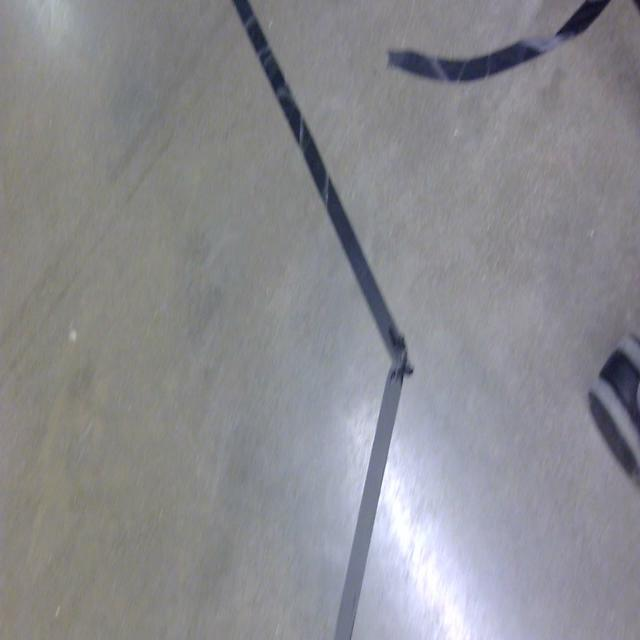tape: (208, 0, 435, 640), (366, 0, 631, 98)
